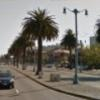cars: (0, 70, 15, 90)
